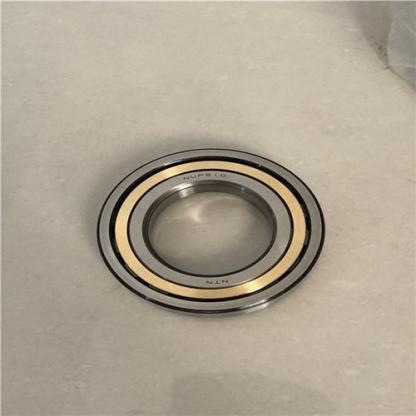FOD: (93, 144, 327, 319)
